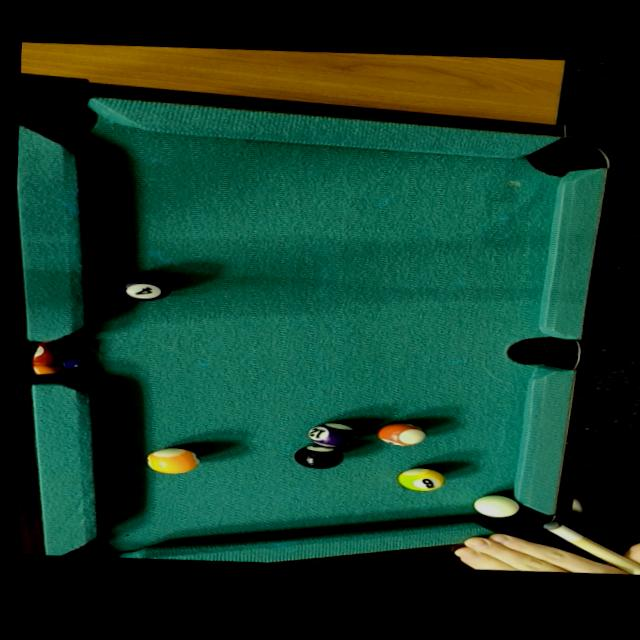cue ball: (466, 490, 525, 523)
other: (138, 440, 207, 479), (295, 414, 365, 452), (370, 414, 436, 452), (111, 268, 175, 306), (285, 439, 350, 474), (392, 459, 454, 495)
